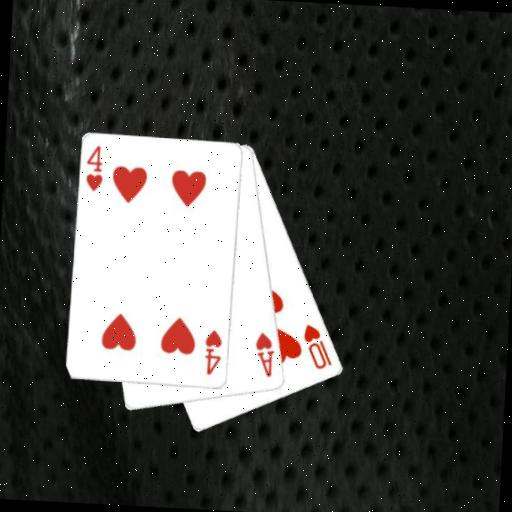10H: (299, 321, 336, 372)
4H: (82, 143, 106, 194), (201, 327, 225, 377)
AH: (251, 330, 277, 380)
